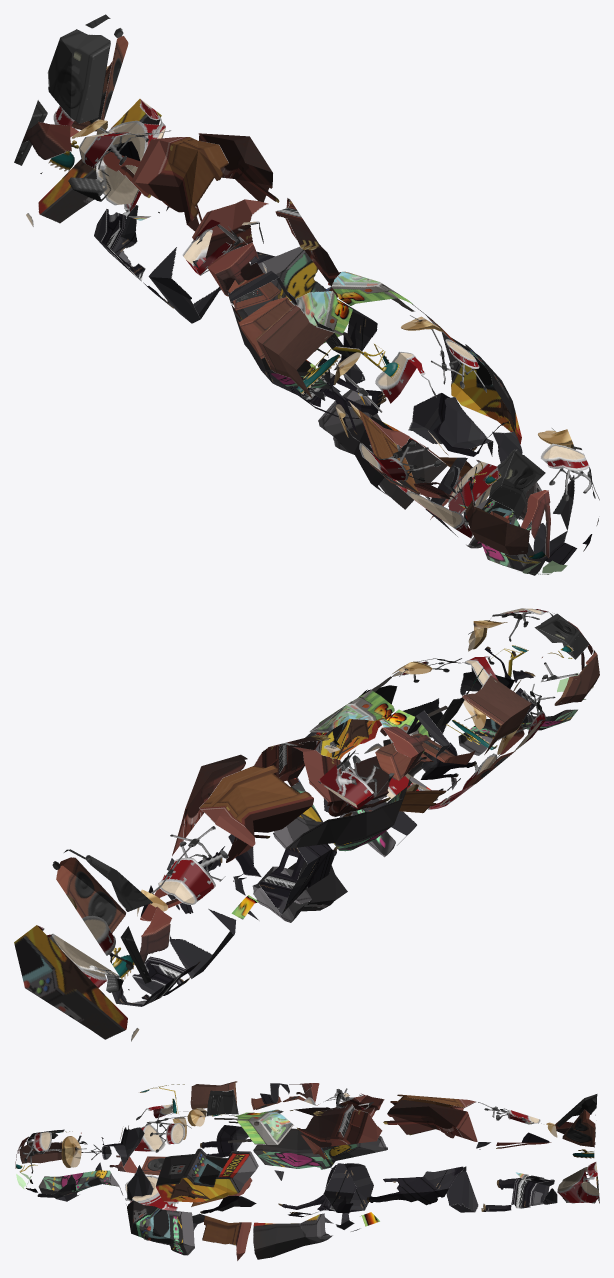
The picture shows the model from 3 angles, top to bottom: view 1: azimuth 30°, elevation 25°; view 2: azimuth 150°, elevation 25°; view 3: azimuth 270°, elevation 25°; orthographic projection. The views are drawn at different scales.
Size of the model in its own units: 0.4078 by 0.4971 by 1.62.
